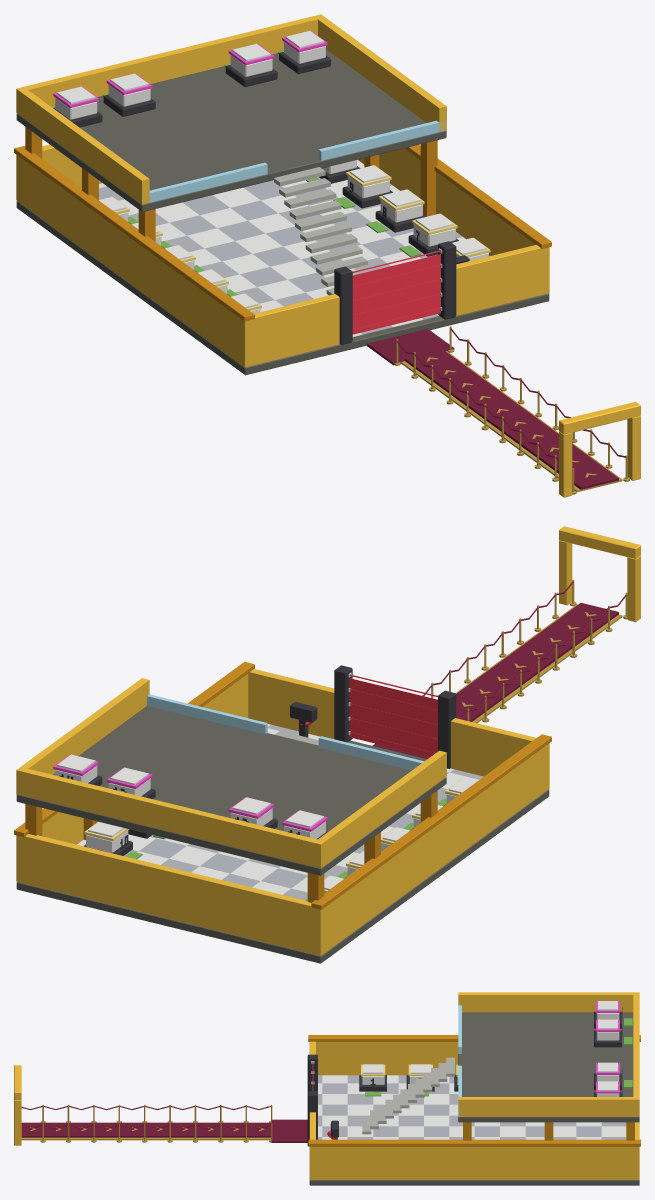
The model's file is GoldStealBase.fbx.
3 views of the same model, one above another, from view 1: azimuth 30°, elevation 25°; view 2: azimuth 150°, elevation 25°; view 3: azimuth 270°, elevation 25° (orthographic). The views are drawn at different scales.
Visible parts, largest first — view 1: GoldStealBase, GoldStealBase_Floor2, GoldStealBase_Belt, GoldStealBase_Lasers, GoldStealBase_Slot8, GoldStealBase_Slot9, GoldStealBase_Slot12, GoldStealBase_Slot13, GoldStealBase_Slot14, GoldStealBase_Slot7, GoldStealBase_Slot11; view 2: GoldStealBase, GoldStealBase_Floor2, GoldStealBase_Lasers, GoldStealBase_Belt, GoldStealBase_Slot10, GoldStealBase_Slot14, GoldStealBase_Slot12, GoldStealBase_Slot13, GoldStealBase_Slot11; view 3: GoldStealBase, GoldStealBase_Floor2, GoldStealBase_Belt, GoldStealBase_Slot12, GoldStealBase_Slot1, GoldStealBase_Slot13, GoldStealBase_Slot11, GoldStealBase_Slot2, GoldStealBase_Slot14.
Boxes of the visible parts, left/top/right/bottom form: GoldStealBase: left=14, top=144, right=640, bottom=497; GoldStealBase_Floor2: left=16, top=14, right=446, bottom=295; GoldStealBase_Belt: left=404, top=349, right=618, bottom=489; GoldStealBase_Lasers: left=352, top=250, right=440, bottom=334; GoldStealBase_Slot8: left=366, top=189, right=426, bottom=232; GoldStealBase_Slot9: left=333, top=165, right=392, bottom=208; GoldStealBase_Slot12: left=102, top=73, right=155, bottom=116; GoldStealBase_Slot13: left=224, top=43, right=277, bottom=86; GoldStealBase_Slot14: left=278, top=31, right=330, bottom=74; GoldStealBase_Slot7: left=399, top=213, right=458, bottom=257; GoldStealBase_Slot11: left=52, top=86, right=102, bottom=127; GoldStealBase: left=14, top=526, right=640, bottom=963; GoldStealBase_Floor2: left=16, top=678, right=446, bottom=902; GoldStealBase_Lasers: left=349, top=674, right=437, bottom=756; GoldStealBase_Belt: left=456, top=603, right=618, bottom=721; GoldStealBase_Slot10: left=84, top=821, right=142, bottom=859; GoldStealBase_Slot14: left=53, top=754, right=102, bottom=785; GoldStealBase_Slot12: left=228, top=797, right=277, bottom=828; GoldStealBase_Slot13: left=106, top=767, right=155, bottom=798; GoldStealBase_Slot11: left=282, top=810, right=327, bottom=839; GoldStealBase: left=14, top=1035, right=640, bottom=1185; GoldStealBase_Floor2: left=362, top=992, right=639, bottom=1140; GoldStealBase_Belt: left=21, top=1122, right=271, bottom=1137; GoldStealBase_Slot12: left=594, top=1019, right=632, bottom=1047; GoldStealBase_Slot1: left=359, top=1064, right=386, bottom=1096; GoldStealBase_Slot13: left=594, top=1062, right=632, bottom=1090; GoldStealBase_Slot11: left=594, top=1001, right=632, bottom=1028; GoldStealBase_Slot2: left=406, top=1064, right=434, bottom=1096; GoldStealBase_Slot14: left=594, top=1081, right=622, bottom=1096.
Size of the model in its own units: 40.4 by 15.1 by 98.8.
Materials: 1 (1 with a texture image).
